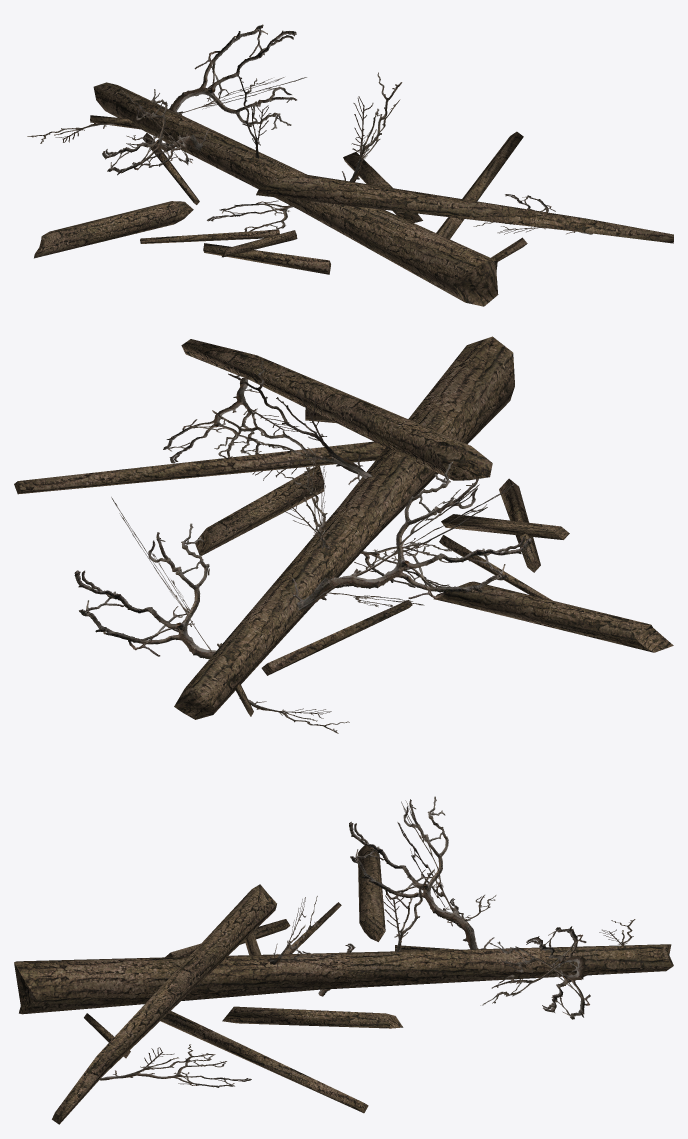
Rendered from Vegetation_Deadtree03.glb.
3 renders of one model, top to bottom at view 1: azimuth 30°, elevation 25°; view 2: azimuth 150°, elevation 25°; view 3: azimuth 270°, elevation 25°, orthographic. The views are drawn at different scales.
Visible parts, largest first — view 1: xiutz_deadtree03; view 2: xiutz_deadtree03; view 3: xiutz_deadtree03.
Boxes of the visible parts, box(x1,y1,x2,y2) form: xiutz_deadtree03: box(27, 24, 673, 306); xiutz_deadtree03: box(14, 336, 673, 733); xiutz_deadtree03: box(14, 796, 673, 1124).
Size of the model in its own units: 13.66 by 4.75 by 14.33.
Materials: 1 (1 with a texture image).
